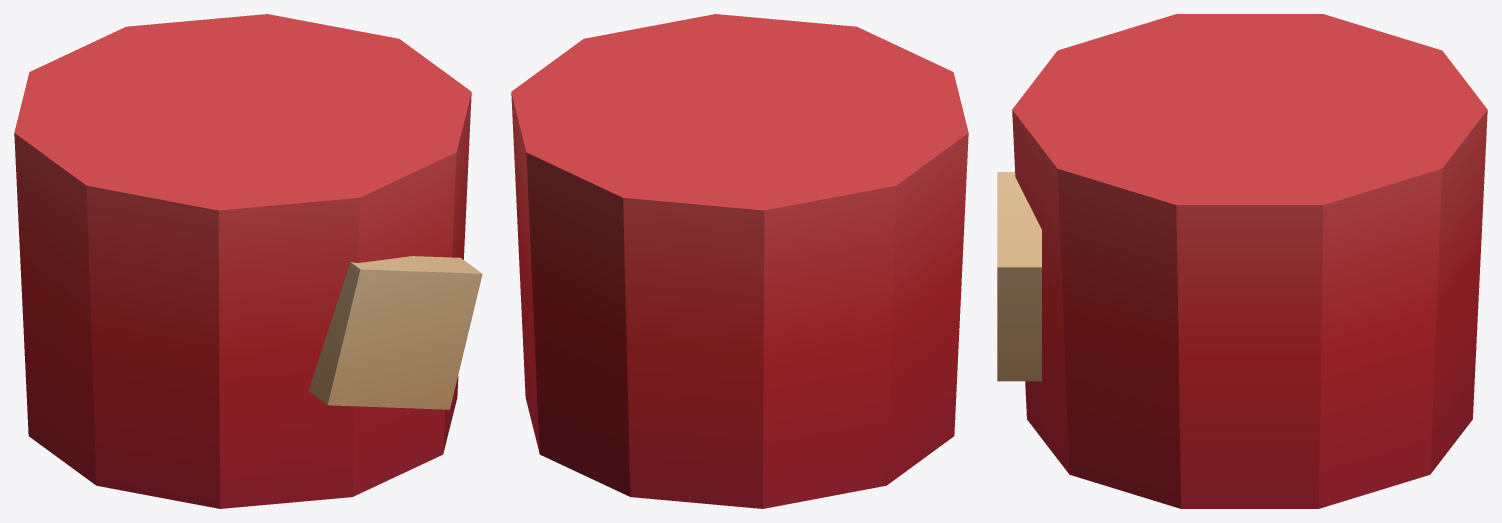
The model's file is patchwork_pants_thigh.glb.
3 renders of one model, left to right at view 1: azimuth 30°, elevation 25°; view 2: azimuth 150°, elevation 25°; view 3: azimuth 270°, elevation 25°, orthographic.
Parts seen in each view (by area): view 1: patchwork_pants_thigh; view 2: patchwork_pants_thigh; view 3: patchwork_pants_thigh.
Part boxes in pixels (x1,y1,x2,y2): patchwork_pants_thigh: (14, 14, 482, 508); patchwork_pants_thigh: (511, 14, 968, 508); patchwork_pants_thigh: (997, 14, 1487, 508).
Bounding box in the file's own units: 0.3043 × 0.23 × 0.33.
1 material, 1 textured.
